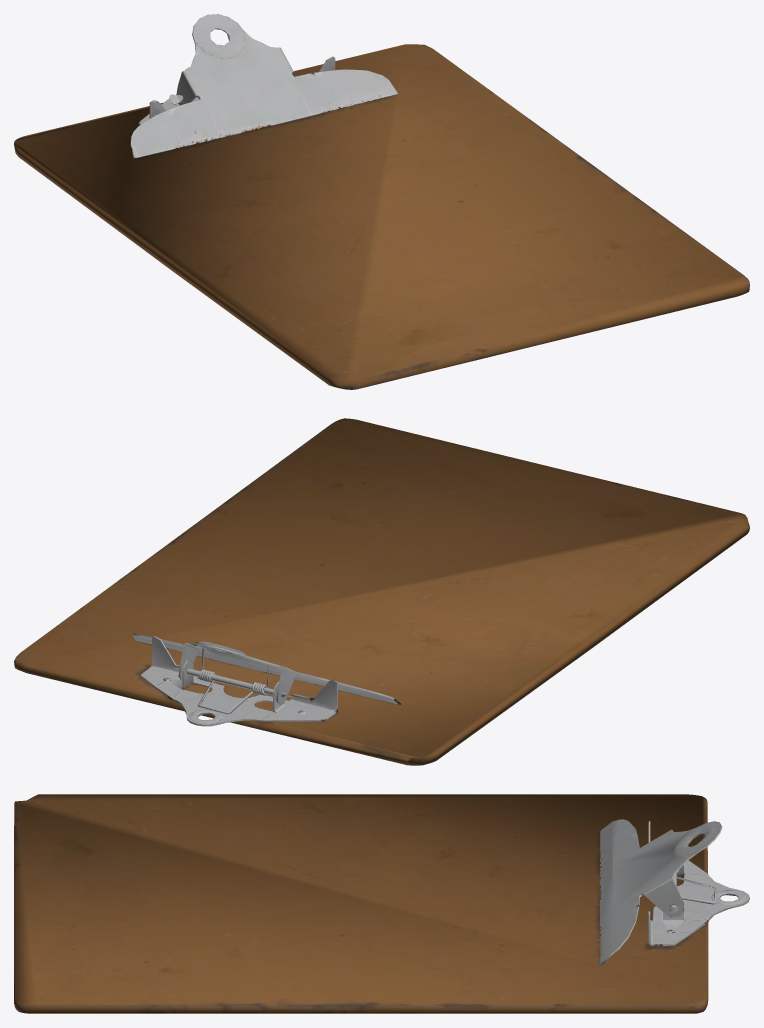
File: clipboard.glb
3 views of the same model, one above another, from view 1: azimuth 30°, elevation 25°; view 2: azimuth 150°, elevation 25°; view 3: azimuth 270°, elevation 25° (orthographic). The views are drawn at different scales.
Visible parts, largest first — view 1: clipboard; view 2: clipboard; view 3: clipboard.
Boxes of the visible parts, x1,y1,x2,y2 form: clipboard: [14, 14, 749, 389]; clipboard: [14, 418, 749, 765]; clipboard: [14, 794, 749, 1013].
Bounding box in the file's own units: 0.2282 × 0.042 × 0.3364.
Materials: 1 (1 with a texture image).
